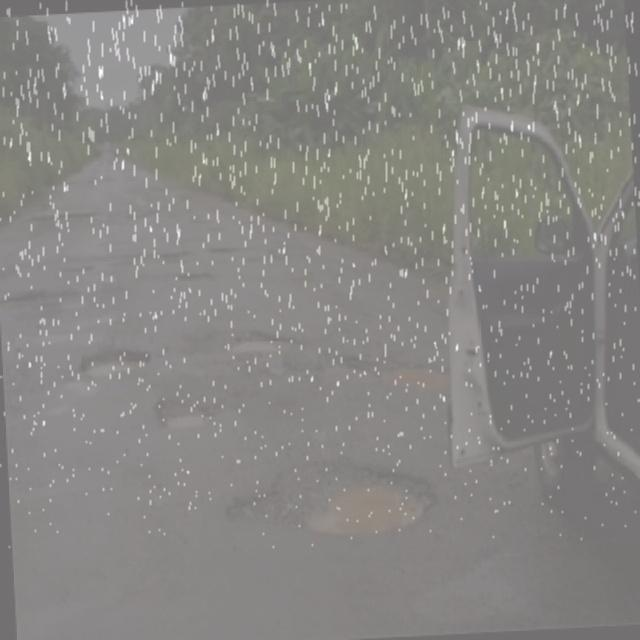Pothole: (237, 451, 452, 548), (344, 343, 450, 403), (0, 284, 120, 332), (218, 321, 316, 377), (153, 372, 215, 443), (0, 204, 96, 245), (70, 339, 144, 387), (52, 252, 152, 271), (153, 241, 193, 266), (178, 270, 229, 288), (202, 247, 256, 258)
